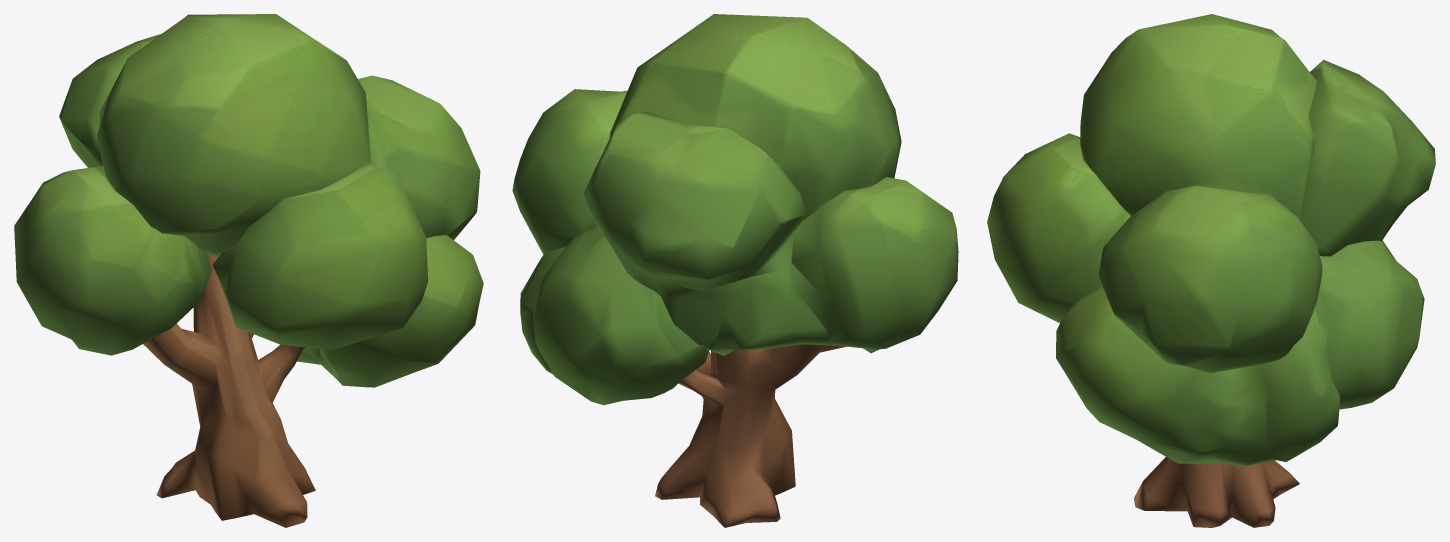
Rendered from tree-a.glb.
3 views of the same model, side by side, from view 1: azimuth 30°, elevation 25°; view 2: azimuth 150°, elevation 25°; view 3: azimuth 270°, elevation 25° (orthographic). The views are drawn at different scales.
Size of the model in its own units: 0.9072 by 0.9531 by 0.835.
1 material, 1 textured.
